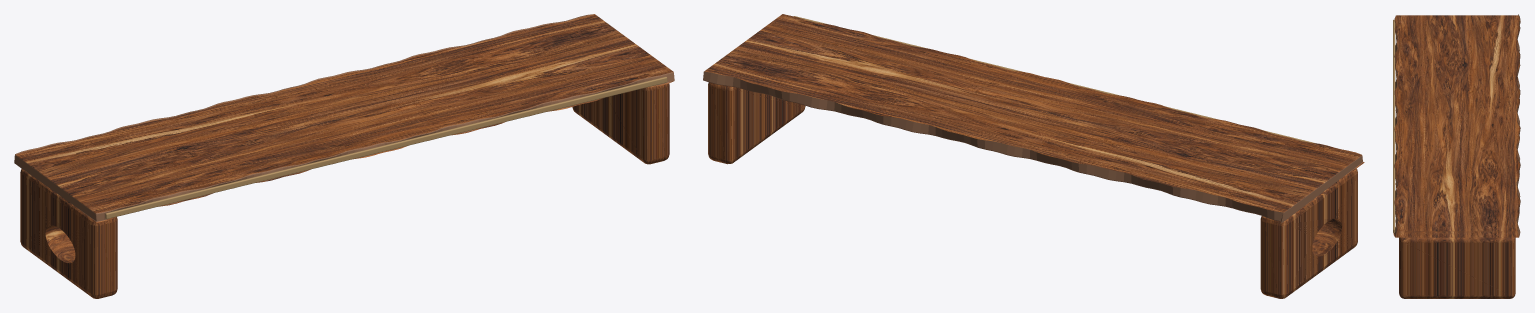
File: enchi_bespoke_waterfall_5m.glb
The picture shows the model from 3 angles, left to right: view 1: azimuth 30°, elevation 25°; view 2: azimuth 150°, elevation 25°; view 3: azimuth 270°, elevation 25°; orthographic projection. The views are drawn at different scales.
Parts seen in each view (by area): view 1: ENCHI / continuous wood grain slab, ENCHI / sculpted waterfall end, ENCHI / sculpted waterfall end.001, ENCHI / narrow live sapwood lip; view 2: ENCHI / continuous wood grain slab, ENCHI / sculpted waterfall end, ENCHI / sculpted waterfall end.001, ENCHI / narrow live sapwood lip; view 3: ENCHI / continuous wood grain slab, ENCHI / sculpted waterfall end.001, ENCHI / narrow live sapwood lip.
Boxes of the visible parts, <box> form: ENCHI / continuous wood grain slab: <box>14,14,674,222</box>; ENCHI / sculpted waterfall end: <box>20,168,117,298</box>; ENCHI / sculpted waterfall end.001: <box>572,83,669,164</box>; ENCHI / narrow live sapwood lip: <box>105,76,667,219</box>; ENCHI / continuous wood grain slab: <box>703,14,1364,223</box>; ENCHI / sculpted waterfall end: <box>1260,168,1357,298</box>; ENCHI / sculpted waterfall end.001: <box>708,82,805,164</box>; ENCHI / narrow live sapwood lip: <box>794,16,1315,143</box>; ENCHI / continuous wood grain slab: <box>1393,14,1520,237</box>; ENCHI / sculpted waterfall end.001: <box>1399,231,1515,298</box>; ENCHI / narrow live sapwood lip: <box>1393,19,1395,232</box>.
Bounding box in the file's own units: 5.01 × 0.758 × 1.25.
Materials: 5 (2 with a texture image).
